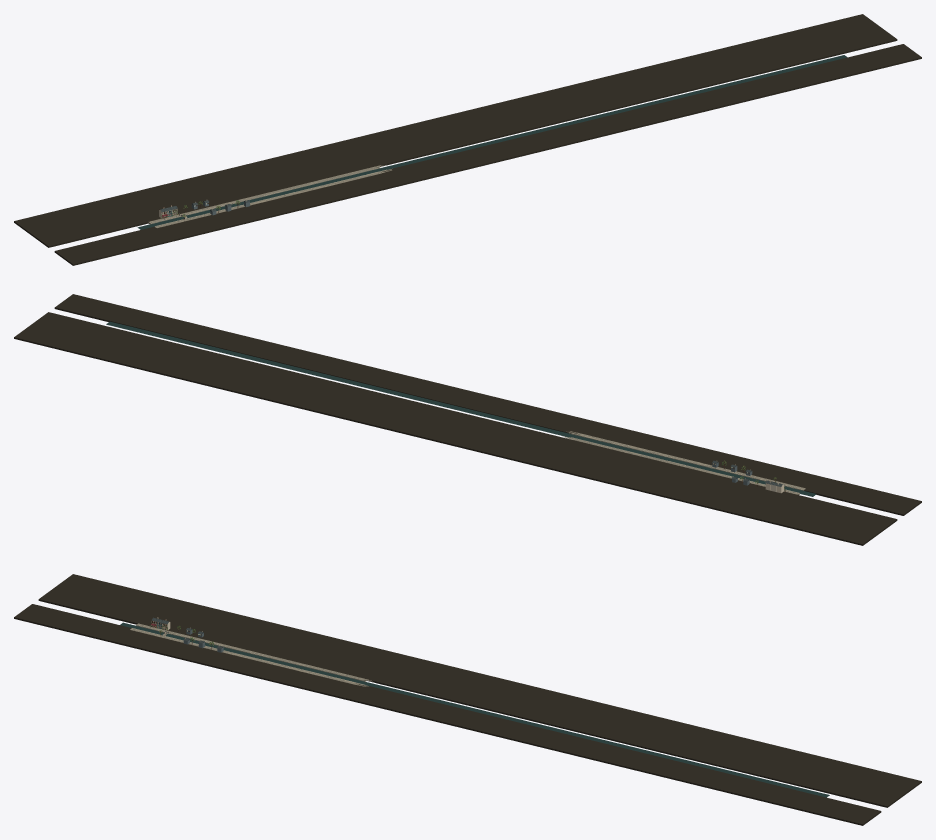
Rendered from canal-v3.glb.
3 renders of one model, top to bottom at view 1: azimuth 30°, elevation 25°; view 2: azimuth 150°, elevation 25°; view 3: azimuth 330°, elevation 25°, orthographic.
Visible parts, largest first — view 1: Material group / soil, Material group / Canal water, Material group / paving, Material group / paving_alt; view 2: Material group / soil, Material group / Canal water, Material group / paving; view 3: Material group / soil, Material group / Canal water, Material group / paving, Material group / paving_alt.
Boxes of the visible parts, x1,y1,x2,y2 form: Material group / soil: (14, 14, 921, 265); Material group / Canal water: (137, 55, 847, 229); Material group / paving: (149, 165, 392, 227); Material group / paving_alt: (149, 165, 391, 227); Material group / soil: (14, 294, 921, 545); Material group / Canal water: (106, 321, 816, 496); Material group / paving: (561, 431, 805, 494); Material group / soil: (14, 574, 921, 825); Material group / Canal water: (120, 622, 829, 797); Material group / paving: (130, 623, 373, 686); Material group / paving_alt: (131, 623, 369, 686).
Bounding box in the file's own units: 960 × 11.58 × 116.
